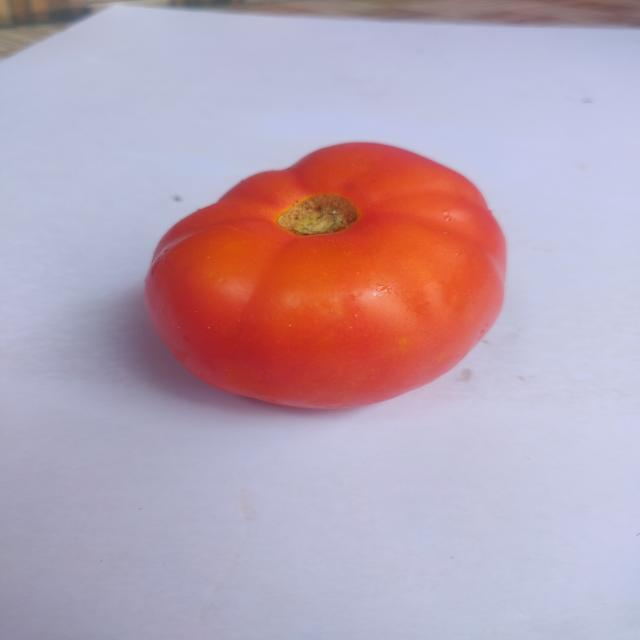Tomato: (140, 135, 516, 430)
